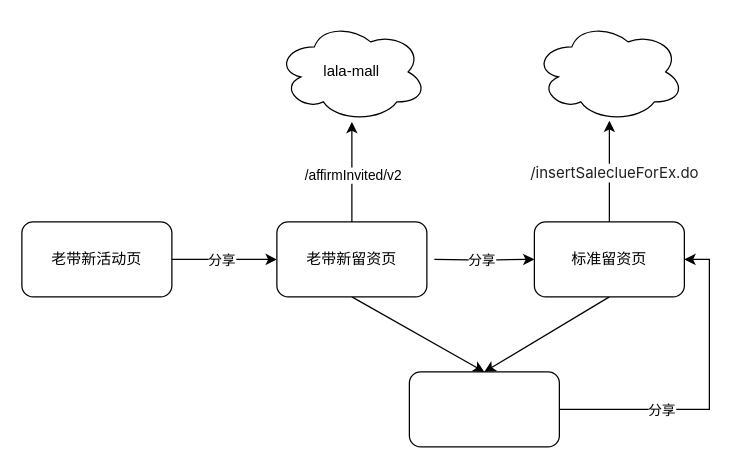
Image size: 741x469. Some labels were removed from this diagram. Here are the shapes that lost their labels. From the top down, the centre of each, then its label:
At point (608, 71): "crm-api".
At point (483, 409): "后置抽奖等".
